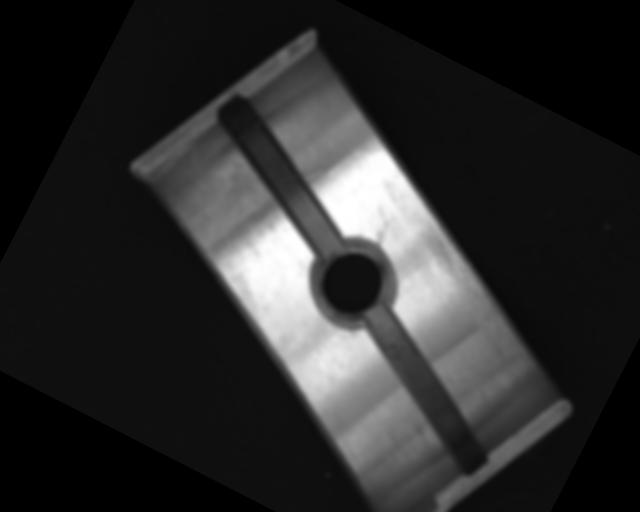gap: (324, 300, 529, 479), (184, 93, 376, 258)
hole: (298, 228, 406, 338)
nick: (327, 127, 385, 193), (373, 219, 393, 246)
scratch: (389, 217, 565, 368)
